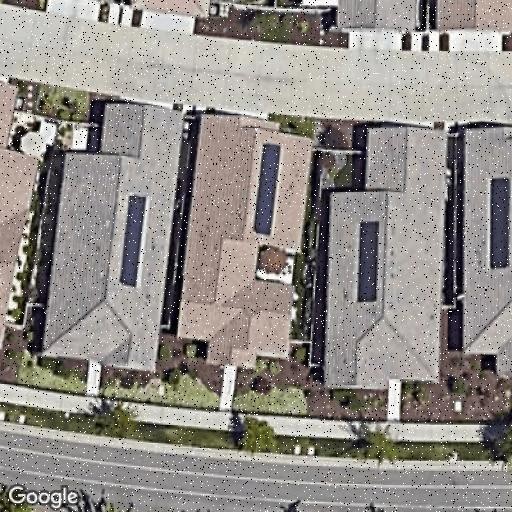solar-panel: (249, 136, 283, 238), (116, 188, 150, 290), (484, 169, 512, 281), (356, 216, 380, 308)
